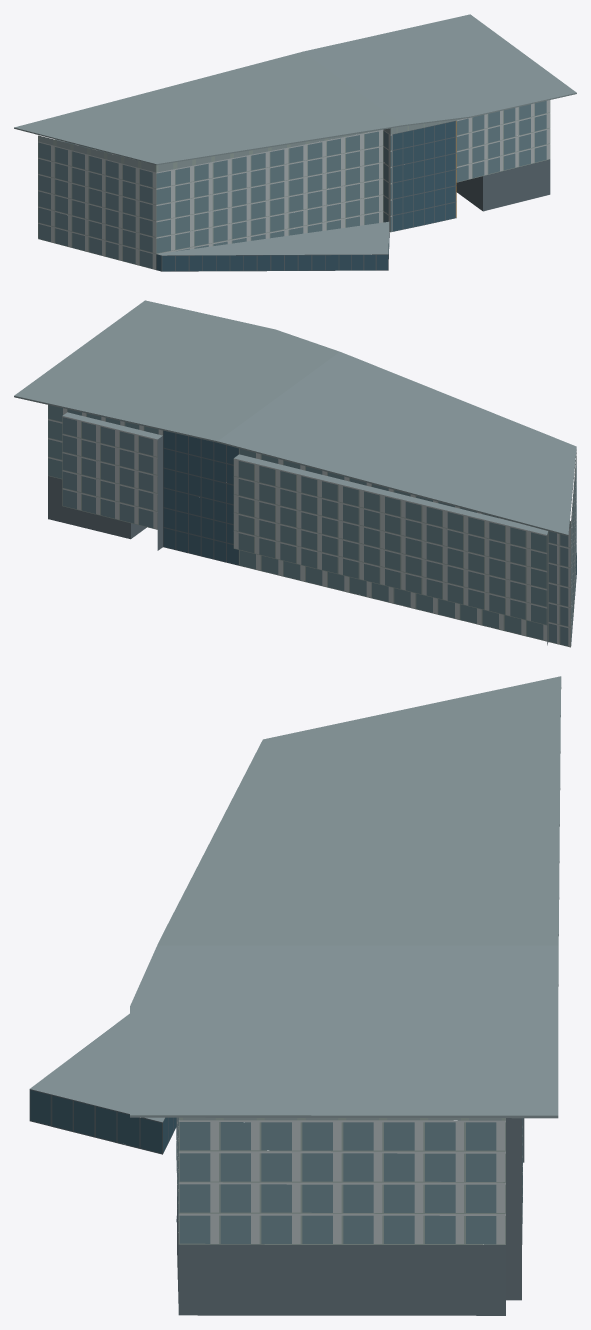
Rendered from surrey-city-hall-far.glb.
The picture shows the model from 3 angles, top to bottom: view 1: azimuth 30°, elevation 25°; view 2: azimuth 150°, elevation 25°; view 3: azimuth 270°, elevation 25°; orthographic projection. The views are drawn at different scales.
Parts seen in each view (by area): view 1: surrey-city-hall-0-roof, surrey-city-hall-0-glass, surrey-city-hall-0-frit, surrey-city-hall-0-atrium, surrey-city-hall-0-mullion, surrey-city-hall-0-core, surrey-city-hall-0-glow; view 2: surrey-city-hall-0-roof, surrey-city-hall-0-glass, surrey-city-hall-0-frit, surrey-city-hall-0-atrium, surrey-city-hall-0-mullion, surrey-city-hall-0-core; view 3: surrey-city-hall-0-roof, surrey-city-hall-0-glass, surrey-city-hall-0-core, surrey-city-hall-0-frit, surrey-city-hall-0-mullion, surrey-city-hall-0-atrium, surrey-city-hall-0-glow.
Boxes of the visible parts, x1,y1,x2,y2 form: surrey-city-hall-0-roof: (14,14,576,255); surrey-city-hall-0-glass: (38,101,546,268); surrey-city-hall-0-frit: (38,100,550,269); surrey-city-hall-0-atrium: (156,121,455,271); surrey-city-hall-0-mullion: (38,100,550,269); surrey-city-hall-0-core: (156,120,550,271); surrey-city-hall-0-glow: (40,119,461,171); surrey-city-hall-0-roof: (14,300,576,554); surrey-city-hall-0-glass: (48,405,576,646); surrey-city-hall-0-frit: (48,408,576,646); surrey-city-hall-0-atrium: (163,431,576,573); surrey-city-hall-0-mullion: (48,405,576,647); surrey-city-hall-0-core: (48,430,576,645); surrey-city-hall-0-roof: (30,676,561,1122); surrey-city-hall-0-glass: (176,1117,522,1244); surrey-city-hall-0-core: (29,1089,524,1315); surrey-city-hall-0-frit: (176,1118,522,1244); surrey-city-hall-0-mullion: (176,1117,522,1244); surrey-city-hall-0-atrium: (30,1090,176,1153); surrey-city-hall-0-glow: (183,1117,501,1120).
Bounding box in the file's own units: 124 × 28.8 × 62.68.
